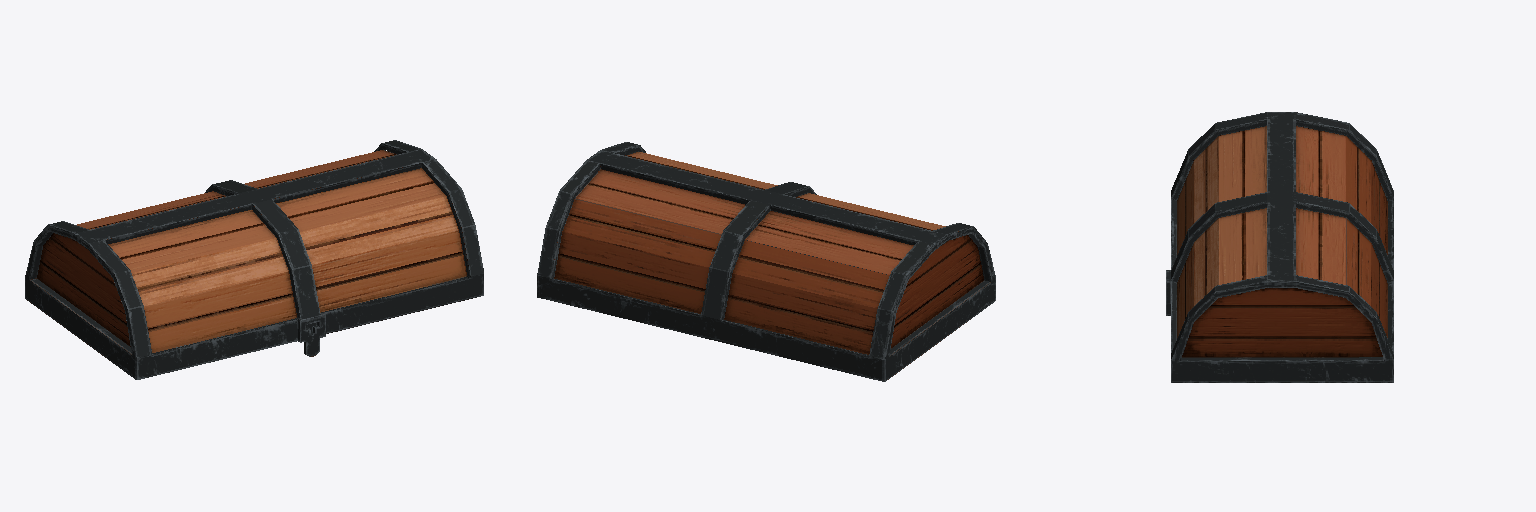
The picture shows the model from 3 angles: view 1: azimuth 30°, elevation 25°; view 2: azimuth 150°, elevation 25°; view 3: azimuth 270°, elevation 25°; orthographic projection.
Parts seen in each view (by area): view 1: chest.001_Cube.014; view 2: chest.001_Cube.014; view 3: chest.001_Cube.014.
Boxes of the visible parts, x1,y1,x2,y2 form: chest.001_Cube.014: [25, 140, 483, 379]; chest.001_Cube.014: [537, 142, 995, 381]; chest.001_Cube.014: [1166, 112, 1393, 382].
Bounding box in the file's own units: 1.08 × 0.3503 × 0.6131.
1 materials, 1 textured.